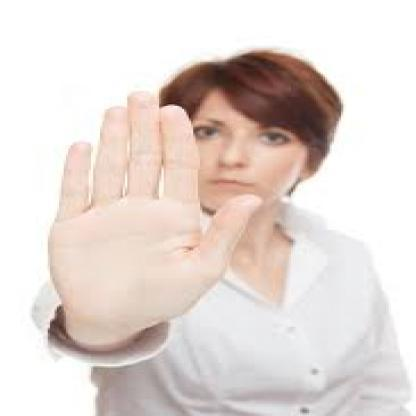stop: (43, 86, 266, 332)
